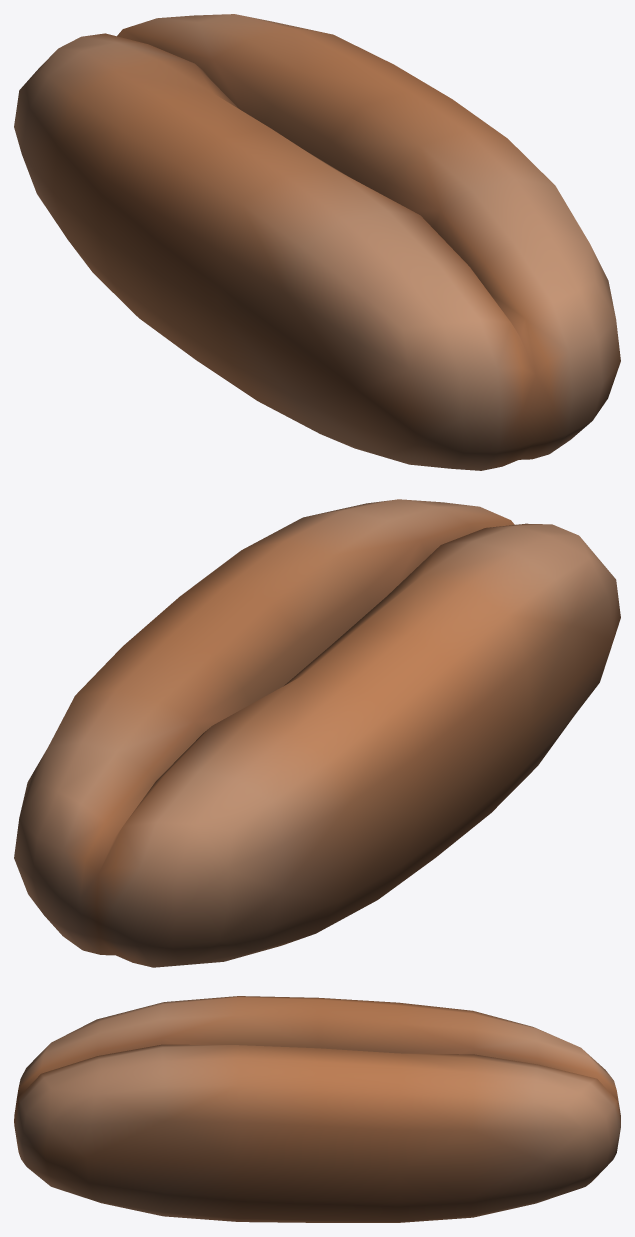
The model's file is trees-seeds-nuts-wheat-grain_v1.glb.
3 renders of one model, top to bottom at view 1: azimuth 30°, elevation 25°; view 2: azimuth 150°, elevation 25°; view 3: azimuth 270°, elevation 25°, orthographic. The views are drawn at different scales.
Parts seen in each view (by area): view 1: Wheat Grain_v1; view 2: Wheat Grain_v1; view 3: Wheat Grain_v1.
Boxes of the visible parts, box(x1,y1,x2,y2) form: Wheat Grain_v1: box(14, 14, 620, 470); Wheat Grain_v1: box(14, 499, 620, 967); Wheat Grain_v1: box(14, 996, 620, 1222).
Bounding box in the file's own units: 0.2949 × 0.2195 × 0.7.
